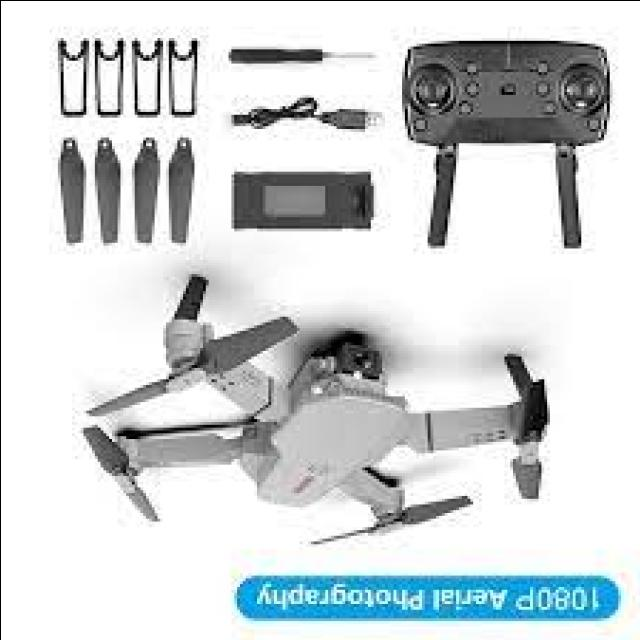drone: (75, 258, 561, 552)
